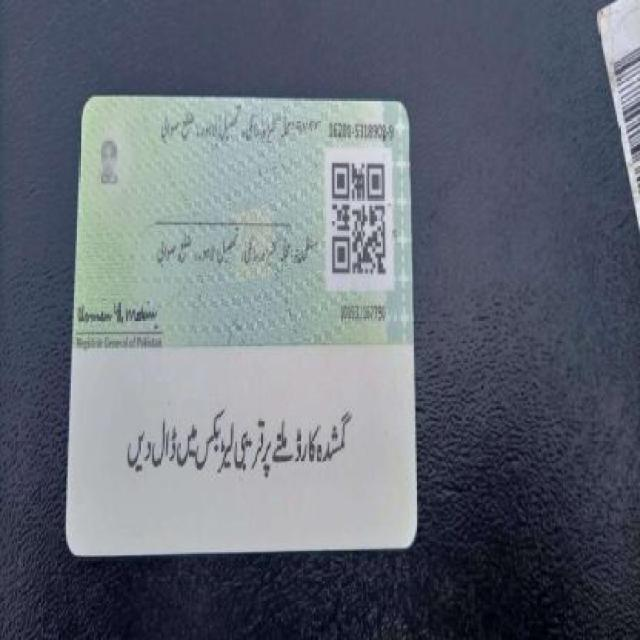Back: (63, 90, 426, 562)
